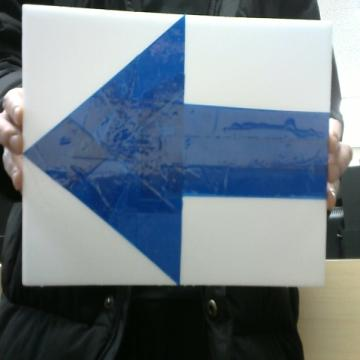blue_left: (25, 16, 328, 282)
